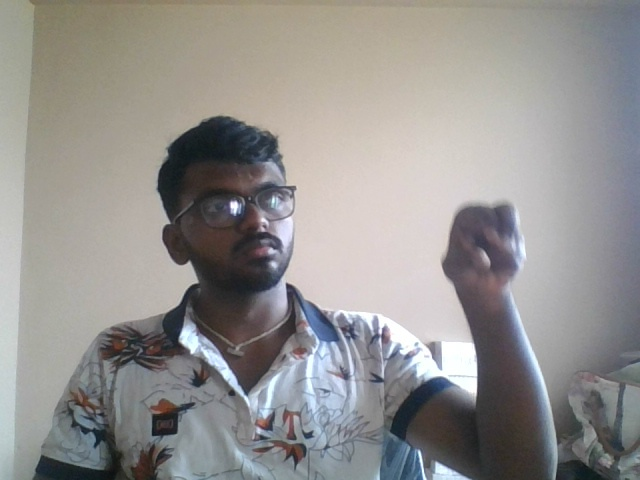No: (416, 180, 556, 342)
